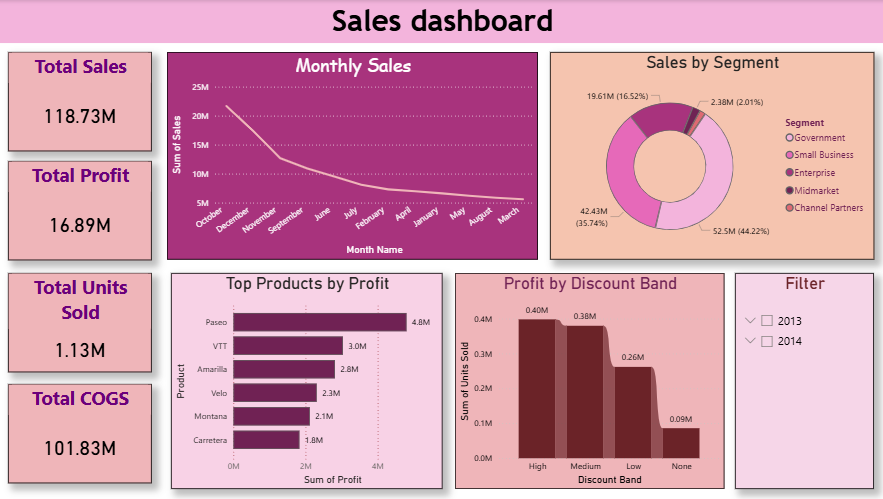

This screenshot's page, from the dashboard's own definition file:
{"tool":"powerbi","page":{"name":"Page 1","canvas":[1280,720],"ordinal":0},"visuals":[{"type":"textbox","box":[0,0,1280,62.2],"z":0},{"type":"card","title":"Total Sales ","fields":{"Values":["Sum(financials.Sales)"]},"box":[15.1,75.6,206.6,142.8],"z":1000},{"type":"card","title":"Total Profit","fields":{"Values":["Sum(financials.Profit)"]},"box":[15.1,231.8,206.6,142.8],"z":2000},{"type":"card","title":"Total Units Sold ","fields":{"Values":["Sum(financials.Units Sold)"]},"box":[15.1,393.1,206.6,142.8],"z":3000},{"type":"card","title":"Total COGS ","fields":{"Values":["Sum(financials.COGS)"]},"box":[15.1,552.7,206.6,142.8],"z":4000},{"type":"lineChart","title":"Monthly Sales","fields":{"Category":["financials.Month Name"],"Y":["Sum(financials.Sales)"]},"box":[243.6,75.6,534.2,299],"z":5000},{"type":"clusteredBarChart","title":"Top Products by Profit","fields":{"Category":["financials.Product"],"Y":["Sum(financials.Profit)"]},"box":[248.6,393.1,391.4,310.8],"z":6000},{"type":"donutChart","title":"Sales by Segment","fields":{"Category":["financials.Segment"],"Y":["Sum(financials.Sales)"]},"box":[794.5,75.6,467,299],"z":7000},{"type":"columnChart","title":"Profit by Discount Band","fields":{"Category":["financials.Discount Band"],"Y":["Sum(financials.Units Sold)"]},"box":[658.5,393.1,388,310.8],"z":8000},{"type":"slicer","title":"Filter","fields":{"Values":["financials.Year","financials.Country","financials.Segment"]},"box":[1061.6,393.1,199.9,310.8],"z":9000}]}

Visuals, with their boxes in screenshot pixels (x1, y1, x2, y2), scaled from the page's 1280x720 canvas onto the 883x499 screenshot:
textbox: 0,0,882,43
"Total Sales " card: 10,52,153,151
"Total Profit" card: 10,161,153,260
"Total Units Sold " card: 10,272,153,371
"Total COGS " card: 10,383,153,482
"Monthly Sales" lineChart: 168,52,537,260
"Top Products by Profit" clusteredBarChart: 171,272,442,488
"Sales by Segment" donutChart: 548,52,870,260
"Profit by Discount Band" columnChart: 454,272,722,488
"Filter" slicer: 732,272,870,488
